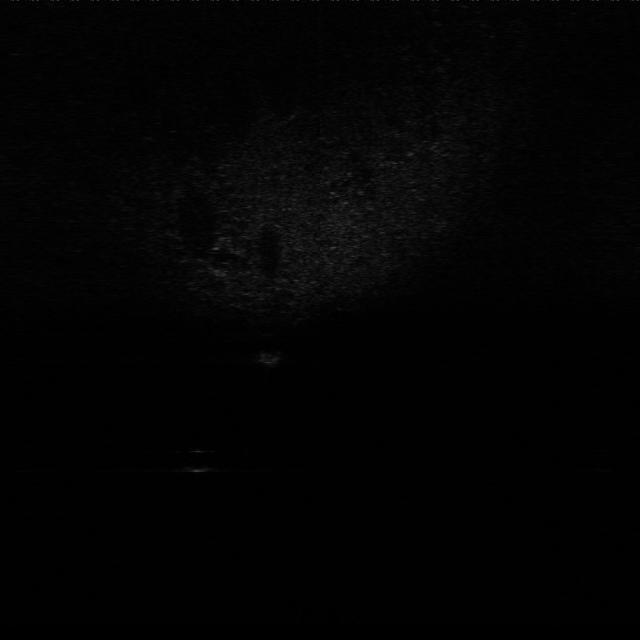ball: (181, 445, 218, 475)
cube: (257, 349, 287, 370)
